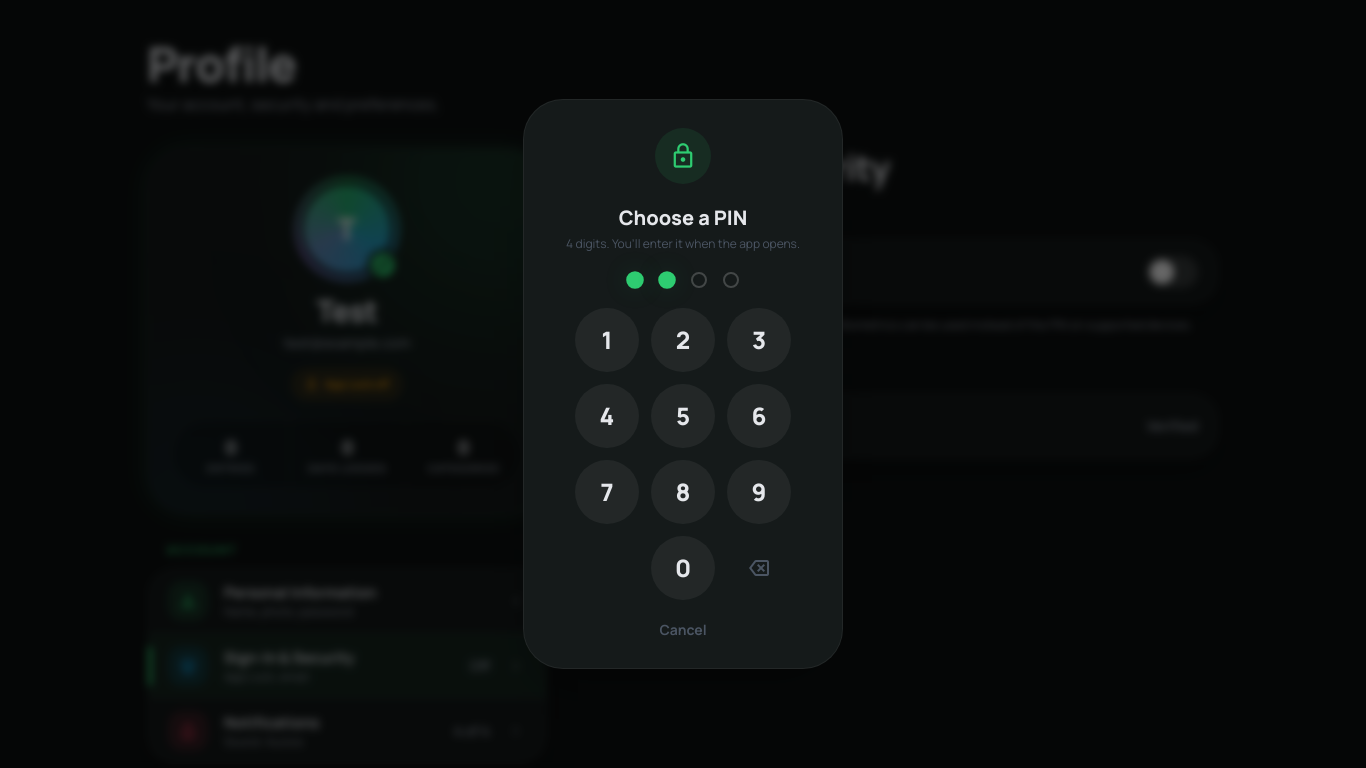
it: App Lock › explains a mismatch in the keypad and saves nothing
Earlier steps of the test are not shown.
Click the button "3". click: click(759, 340)
box: [727, 308, 791, 372]
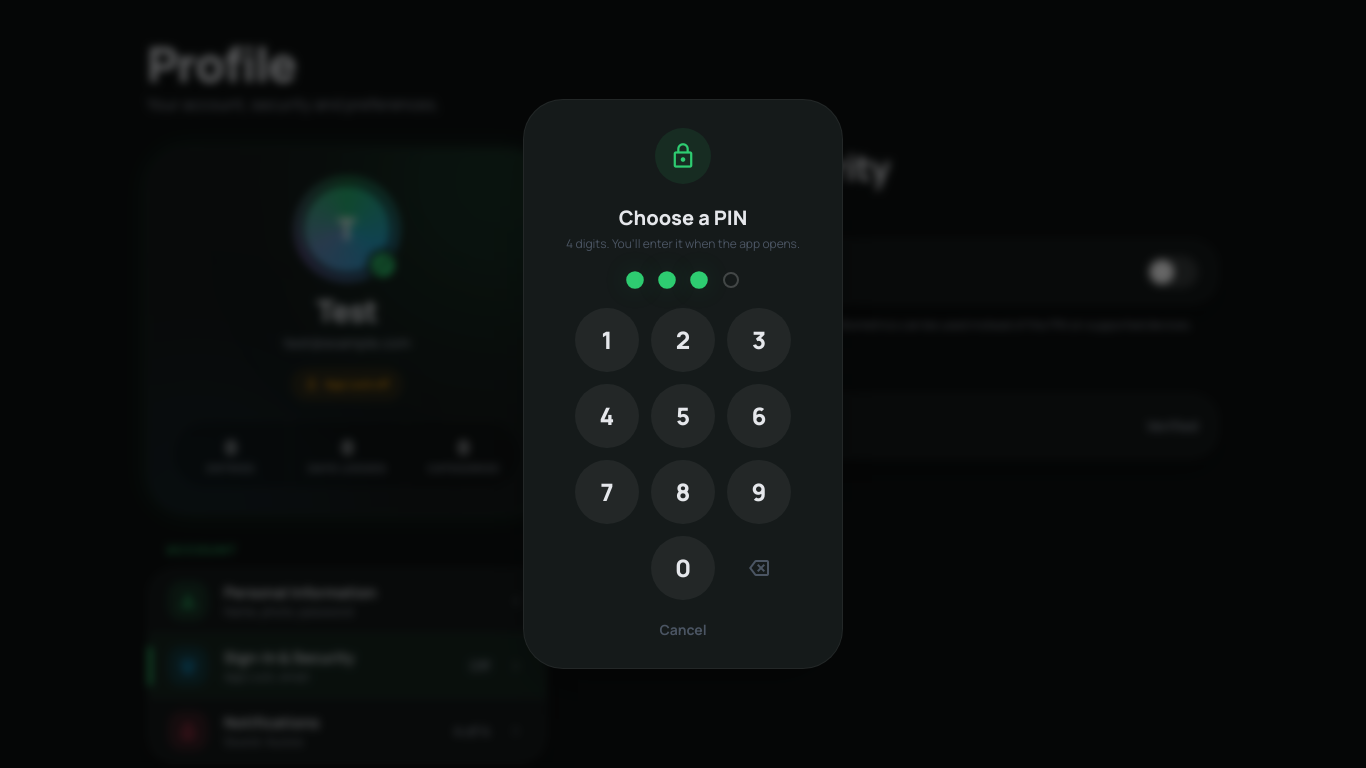
Click the button "4". click: click(607, 416)
box: [575, 384, 639, 448]
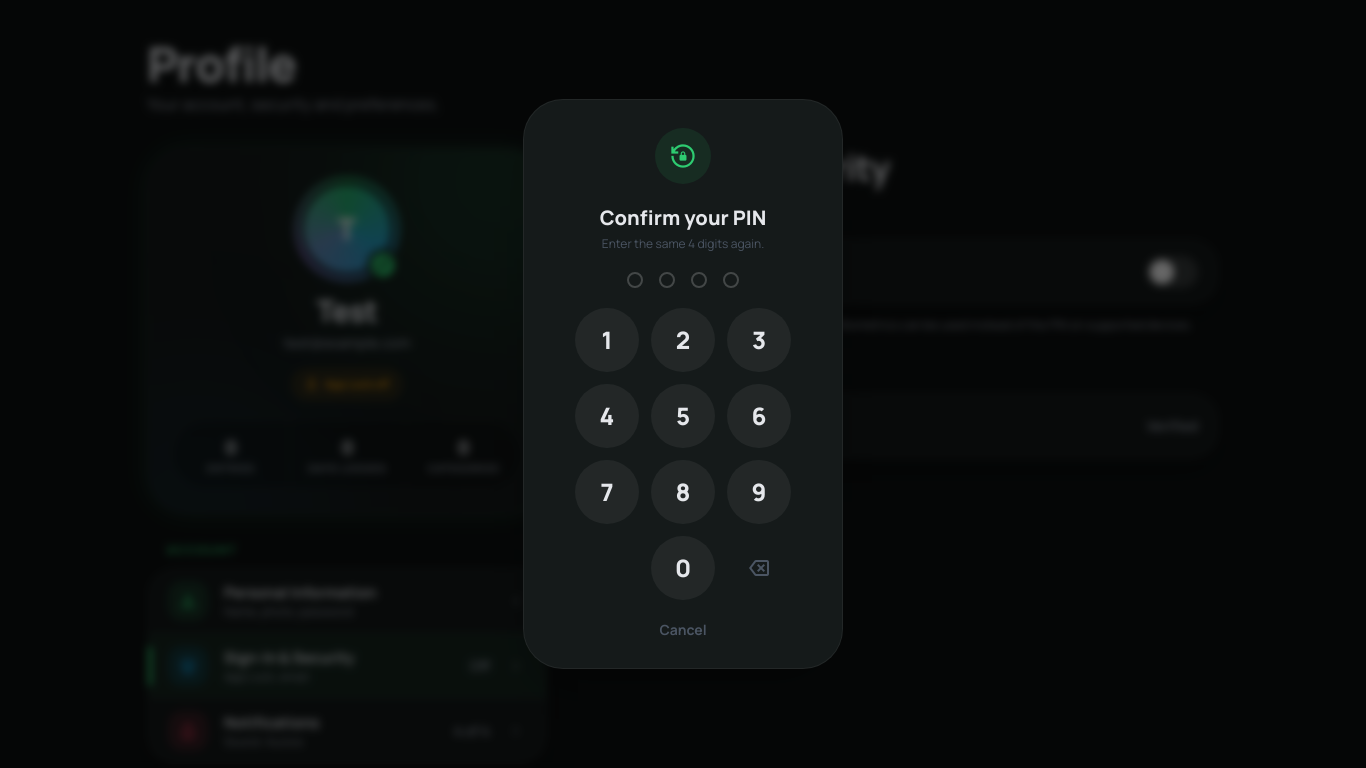
Now the heading "Confirm your PIN" is shown, box [600, 204, 766, 232]
Click the button "9". click: click(759, 492)
box: [727, 460, 791, 524]
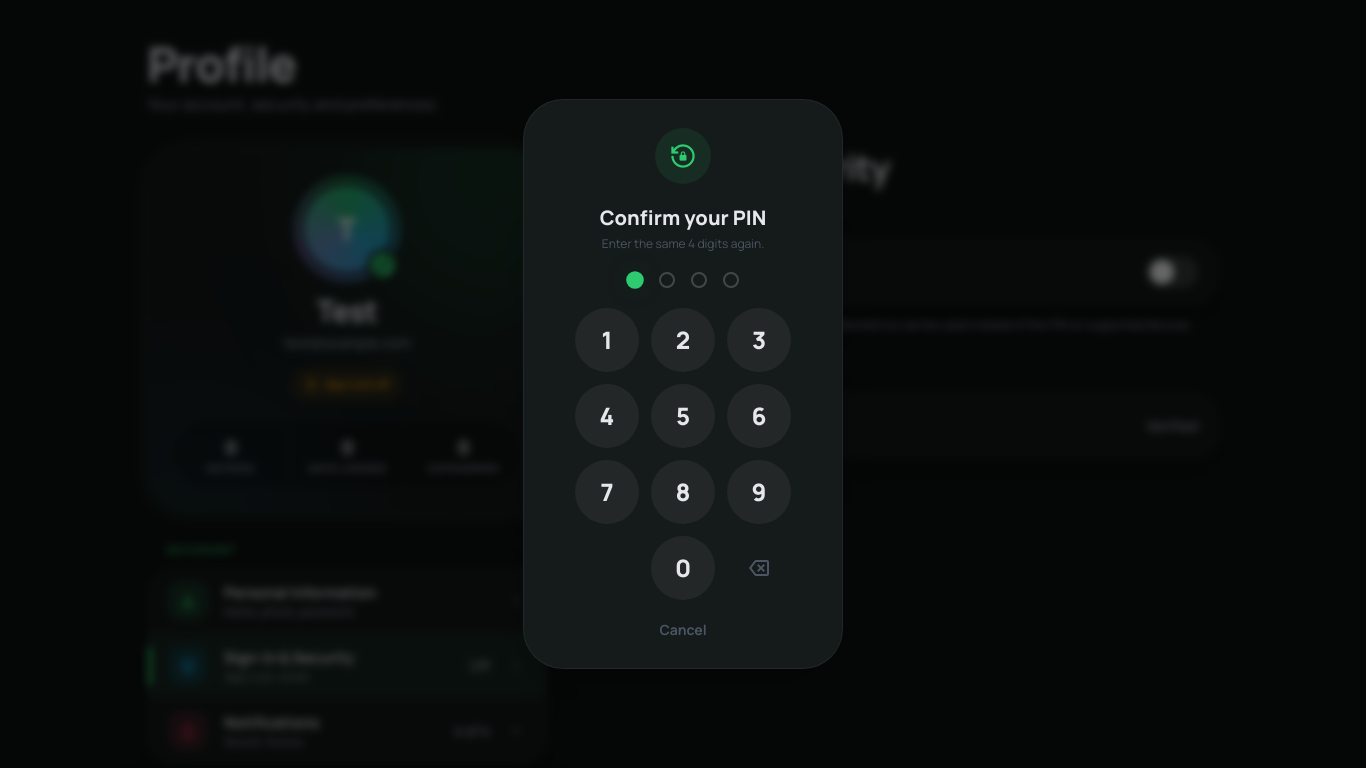
Click the button "9". click: click(759, 492)
box: [727, 460, 791, 524]
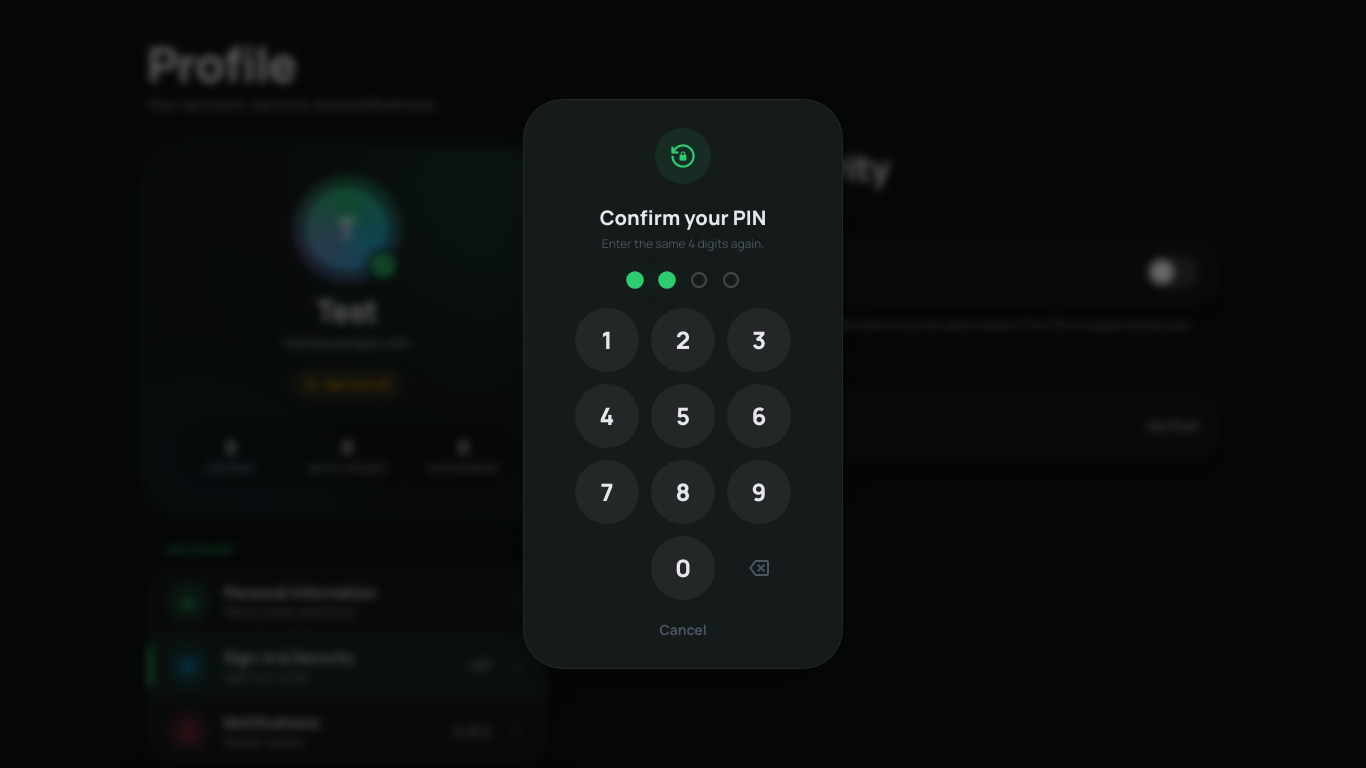
Click the button "9". click: click(759, 492)
box: [727, 460, 791, 524]
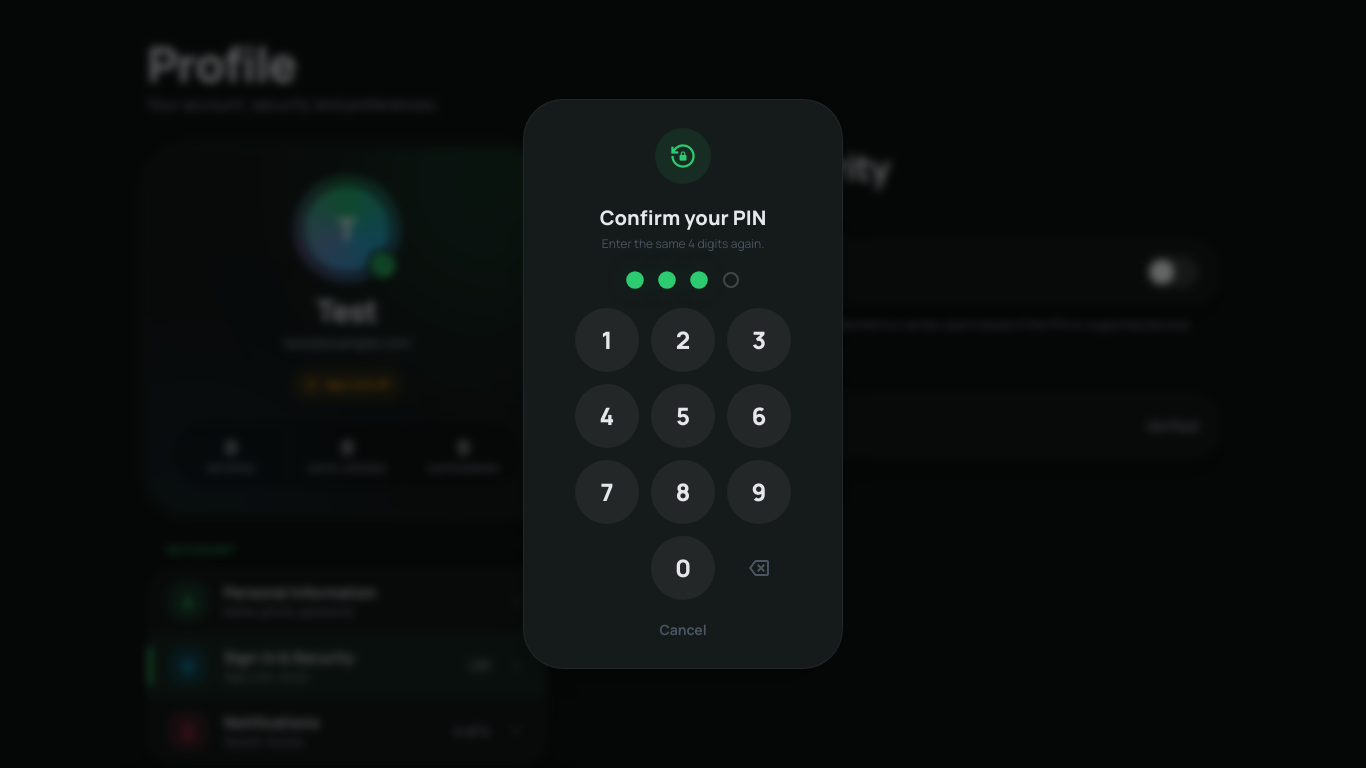
Click the button "9". click: click(759, 492)
box: [727, 460, 791, 524]
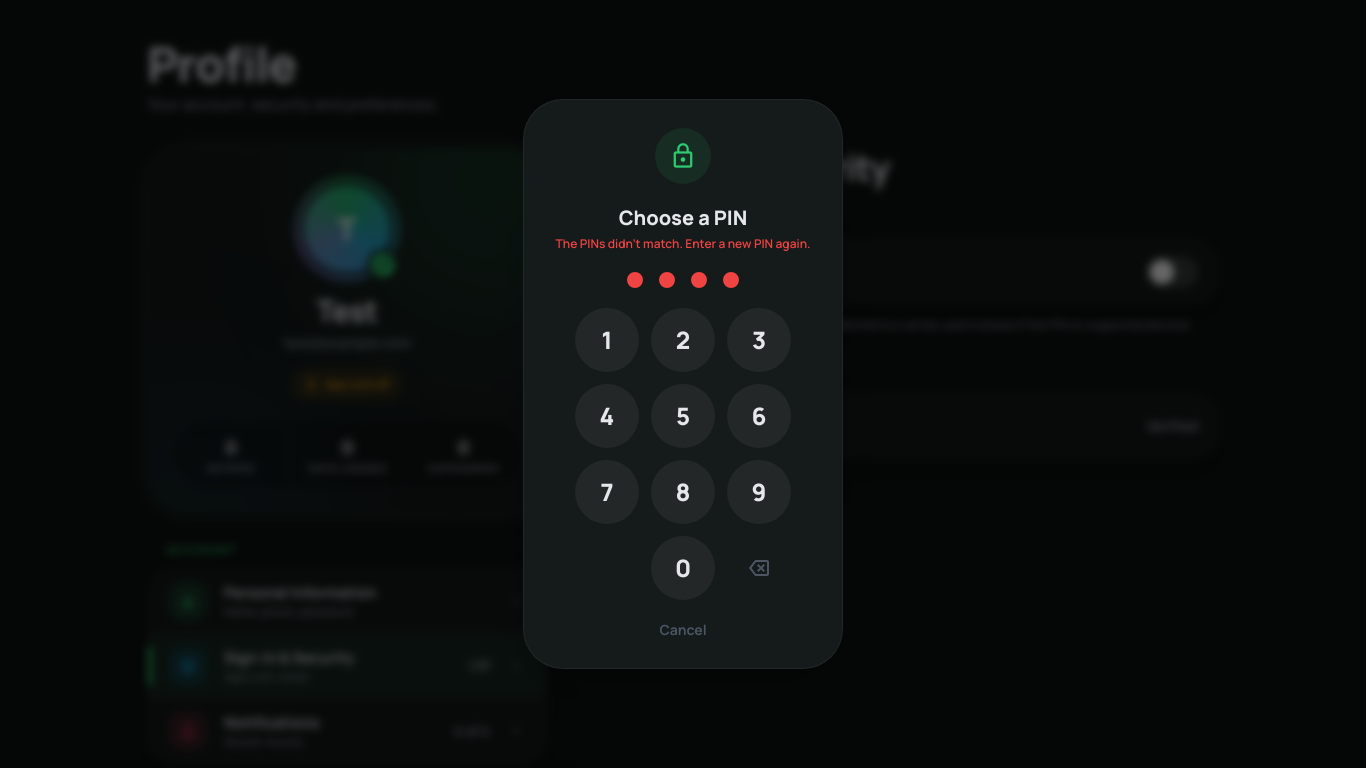
Now the message shows "didn’t match", box [556, 235, 810, 252]
